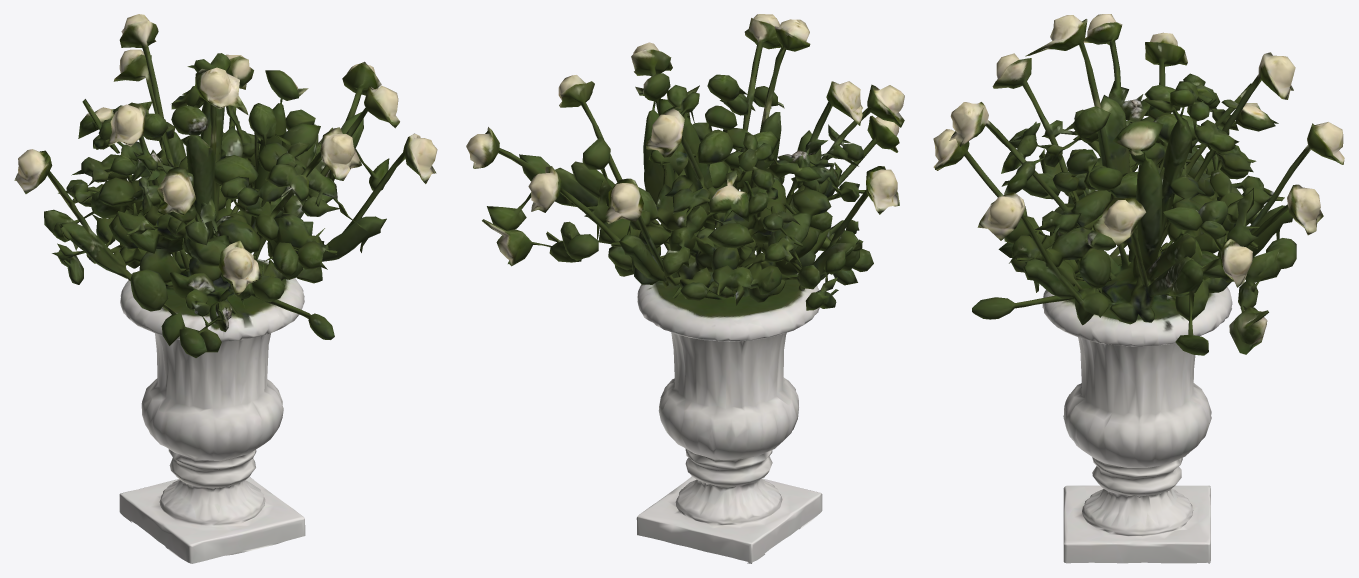
Rendered from ring-center-floral.glb.
3 renders of one model, left to right at view 1: azimuth 30°, elevation 25°; view 2: azimuth 150°, elevation 25°; view 3: azimuth 270°, elevation 25°, orthographic. The views are drawn at different scales.
Visible parts, largest first — view 1: tripo_node_bd6ead2d-fb1d-4f0b-b490-b582fafb44e2; view 2: tripo_node_bd6ead2d-fb1d-4f0b-b490-b582fafb44e2; view 3: tripo_node_bd6ead2d-fb1d-4f0b-b490-b582fafb44e2.
Part boxes in pixels (box(x1,y1,x2,y2)): tripo_node_bd6ead2d-fb1d-4f0b-b490-b582fafb44e2: box(14, 14, 437, 563); tripo_node_bd6ead2d-fb1d-4f0b-b490-b582fafb44e2: box(466, 14, 904, 563); tripo_node_bd6ead2d-fb1d-4f0b-b490-b582fafb44e2: box(933, 14, 1344, 563).
Bounding box in the file's own units: 0.7203 × 0.86 × 0.6353.
1 material, 1 textured.
